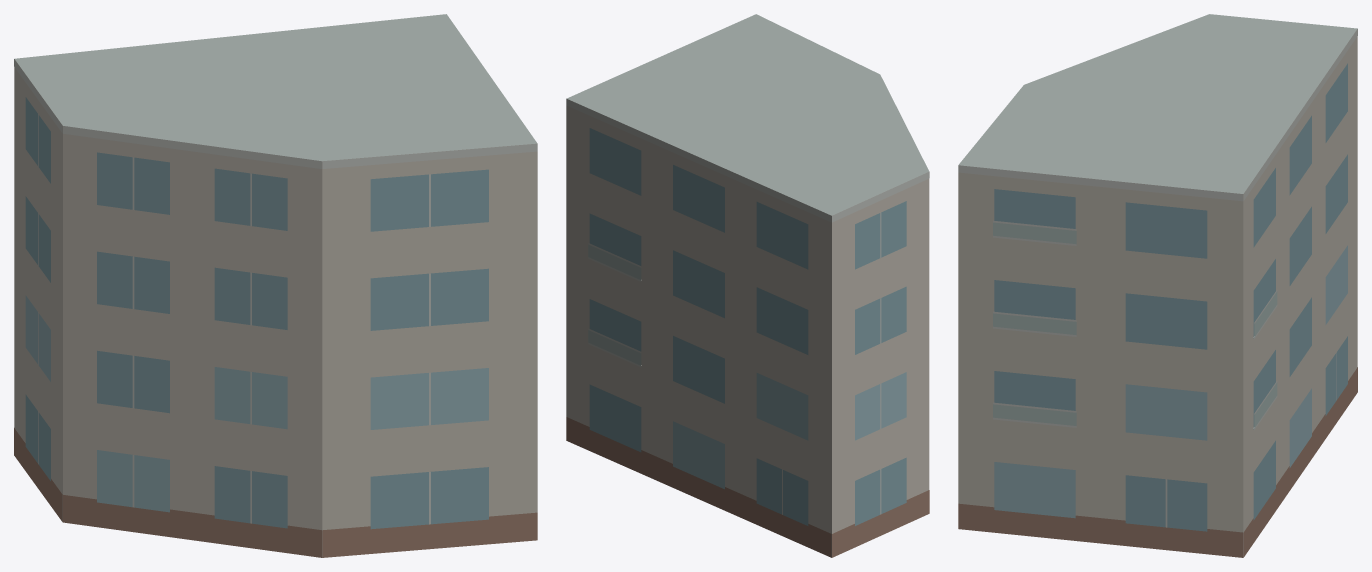
Rendered from survey-upis-32647856.glb.
The picture shows the model from 3 angles, left to right: view 1: azimuth 30°, elevation 25°; view 2: azimuth 150°, elevation 25°; view 3: azimuth 270°, elevation 25°; orthographic projection. The views are drawn at different scales.
Parts seen in each view (by area): view 1: survey-upis-32647856.tmp; view 2: survey-upis-32647856.tmp; view 3: survey-upis-32647856.tmp.
Part boxes in pixels (bbox=[...]): survey-upis-32647856.tmp: bbox=[14, 14, 537, 557]; survey-upis-32647856.tmp: bbox=[566, 14, 929, 557]; survey-upis-32647856.tmp: bbox=[958, 14, 1357, 557].
Bounding box in the file's own units: 12.96 × 12.2 × 12.16.
